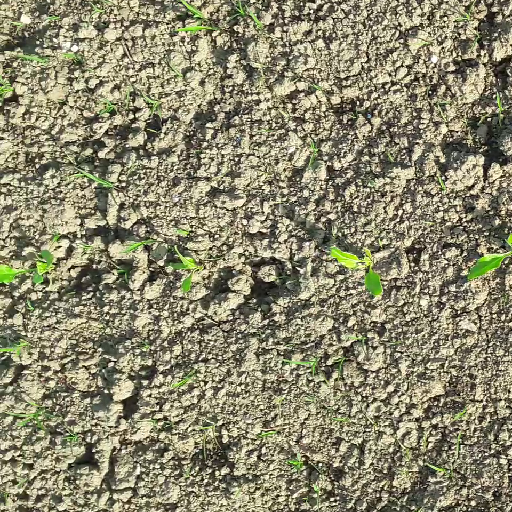sugarbeet: (328, 242, 385, 295), (462, 230, 512, 278), (1, 245, 55, 289), (169, 245, 202, 294)
weed: (69, 163, 121, 191), (176, 1, 221, 33), (122, 86, 164, 120), (4, 407, 62, 428), (228, 1, 269, 29), (1, 333, 31, 364), (283, 356, 319, 378), (120, 235, 156, 252), (172, 365, 198, 388), (87, 1, 121, 17), (491, 89, 504, 127), (93, 95, 116, 116), (422, 463, 454, 478), (17, 52, 52, 65), (309, 136, 323, 164), (311, 478, 324, 507), (349, 335, 368, 354), (332, 355, 348, 376), (62, 428, 78, 448), (287, 456, 304, 474), (1, 81, 13, 106), (456, 430, 464, 464), (137, 414, 159, 426), (451, 407, 468, 422), (260, 427, 281, 438), (438, 176, 449, 196), (76, 243, 92, 256), (62, 50, 85, 58), (116, 265, 129, 278)
